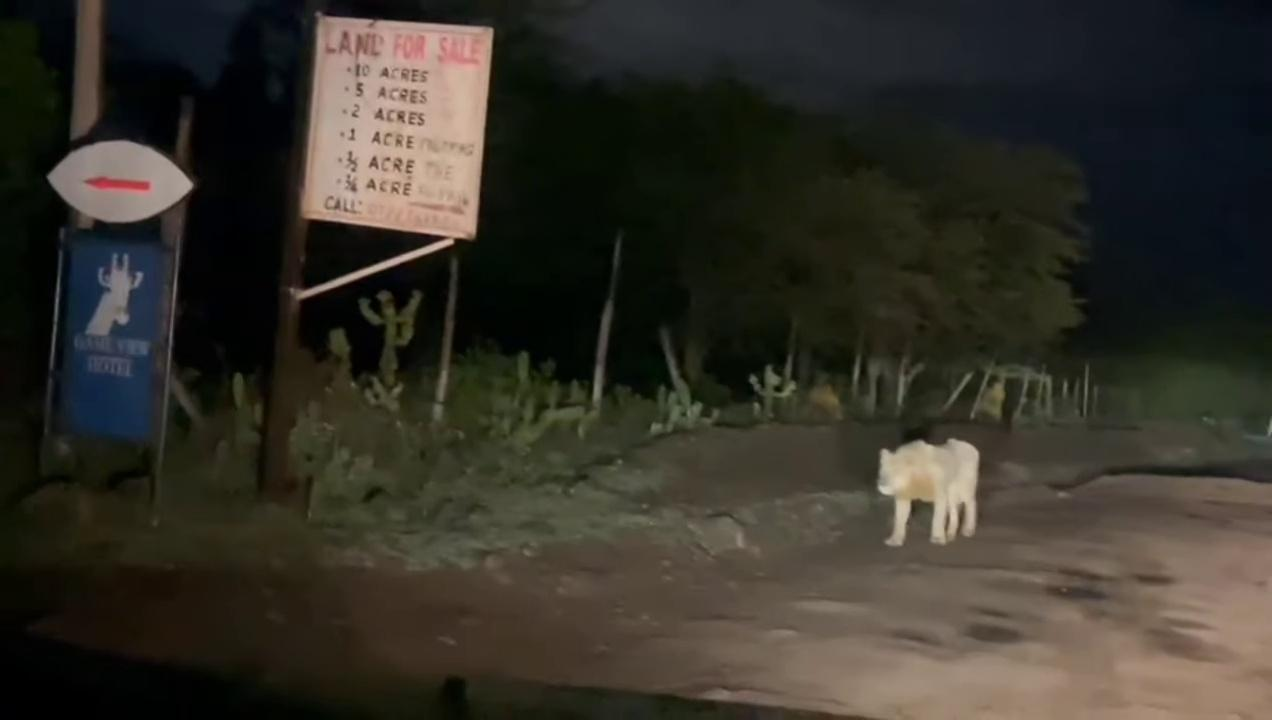lions: (854, 429, 993, 550)
